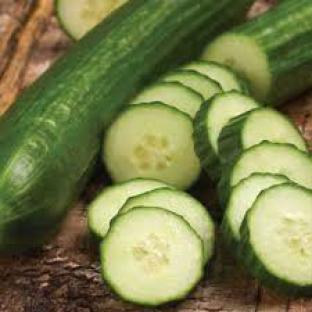Cucumber: (100, 207, 203, 306), (103, 103, 201, 188), (242, 184, 311, 295), (120, 189, 214, 262), (193, 92, 259, 180), (220, 142, 311, 202), (222, 174, 288, 256), (218, 107, 307, 165), (88, 179, 169, 238), (131, 82, 203, 117), (184, 62, 246, 92), (163, 70, 221, 99)
